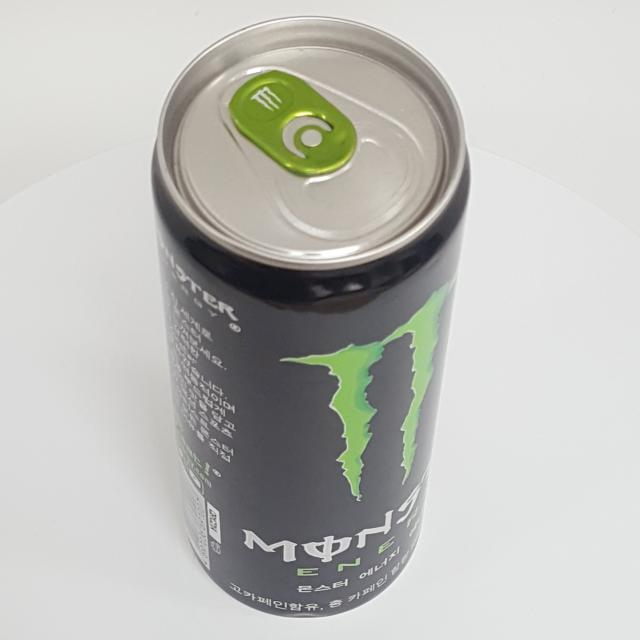--------355ML: (151, 14, 470, 618)
